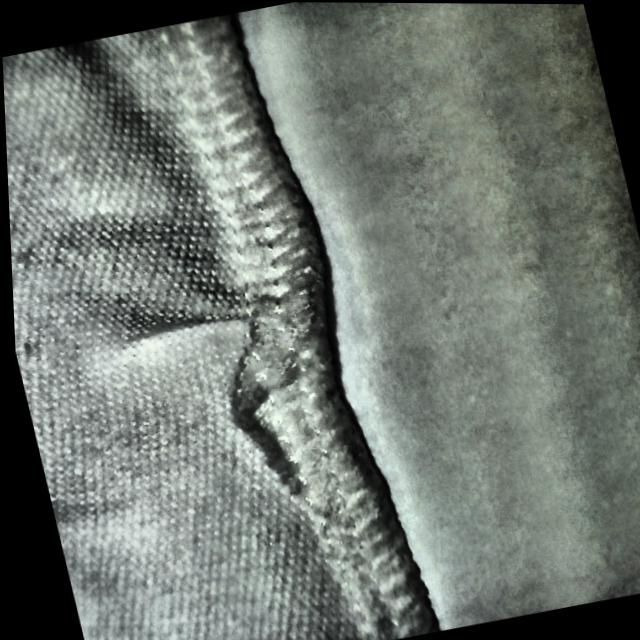seam: (114, 240, 373, 517)
